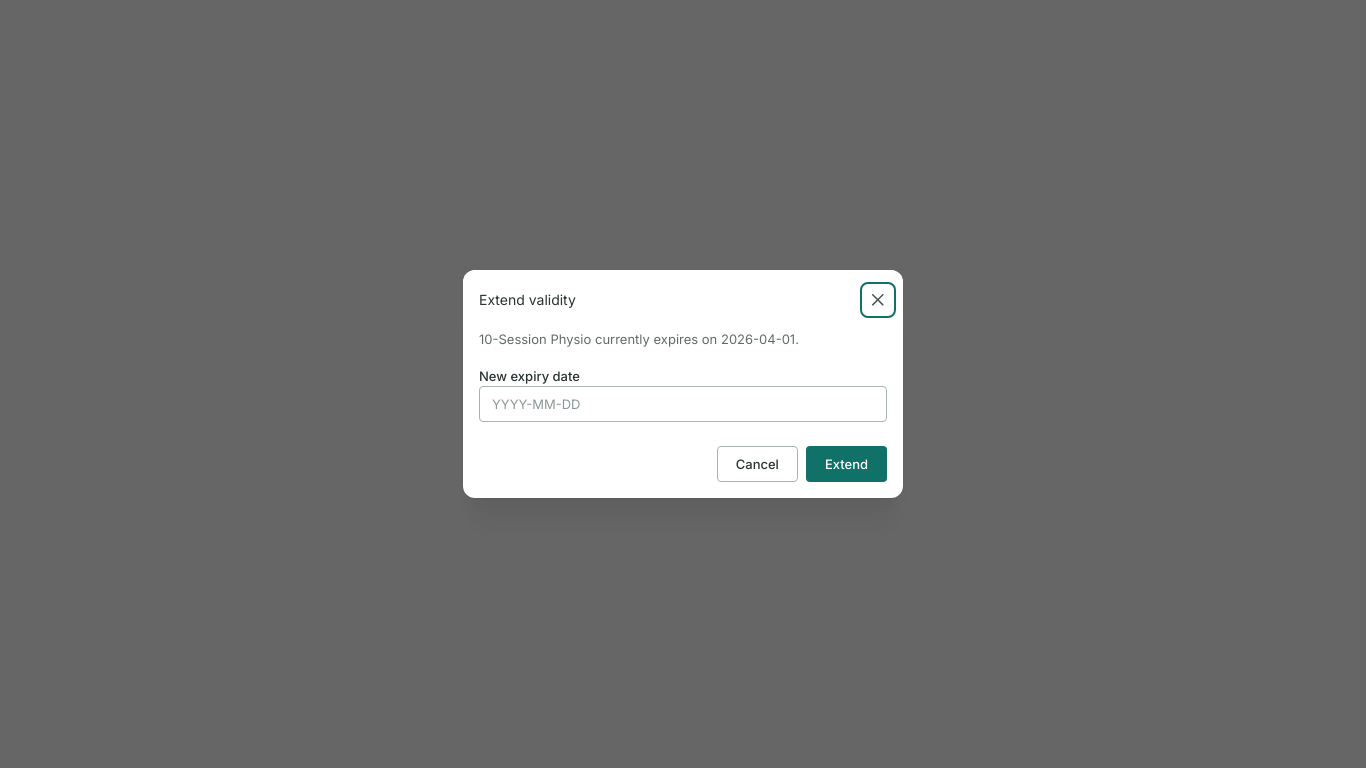
Scenario: ExtendValidityDialog › extends validity on success
The width and height of the screenshot is (1366, 768).
Type "2026-06-01" into the field labelled "New expiry date" at [683, 404], box [479,386,887,422]
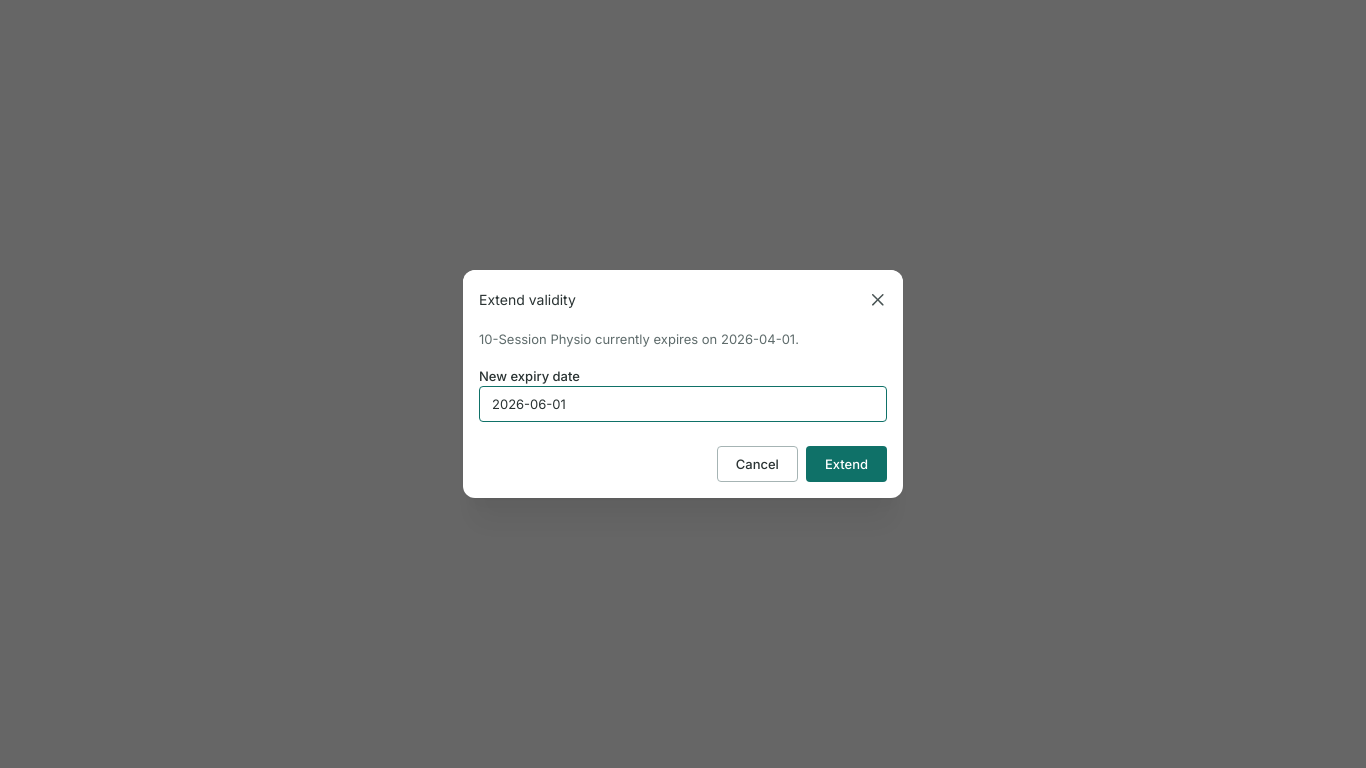
Click the button "Extend" at [846, 464], box [806,446,887,482]
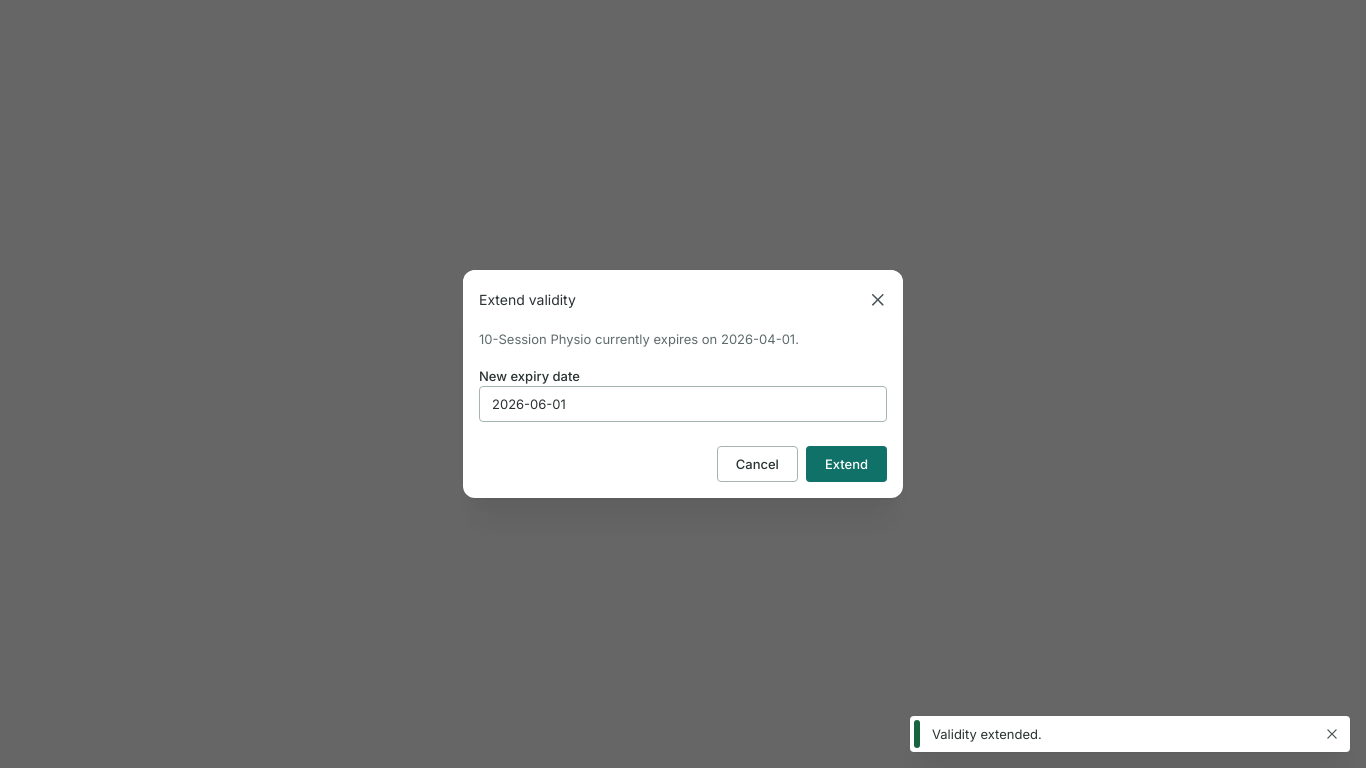
expect the text "Validity extended." is shown: met, box [932,726,1042,742]
